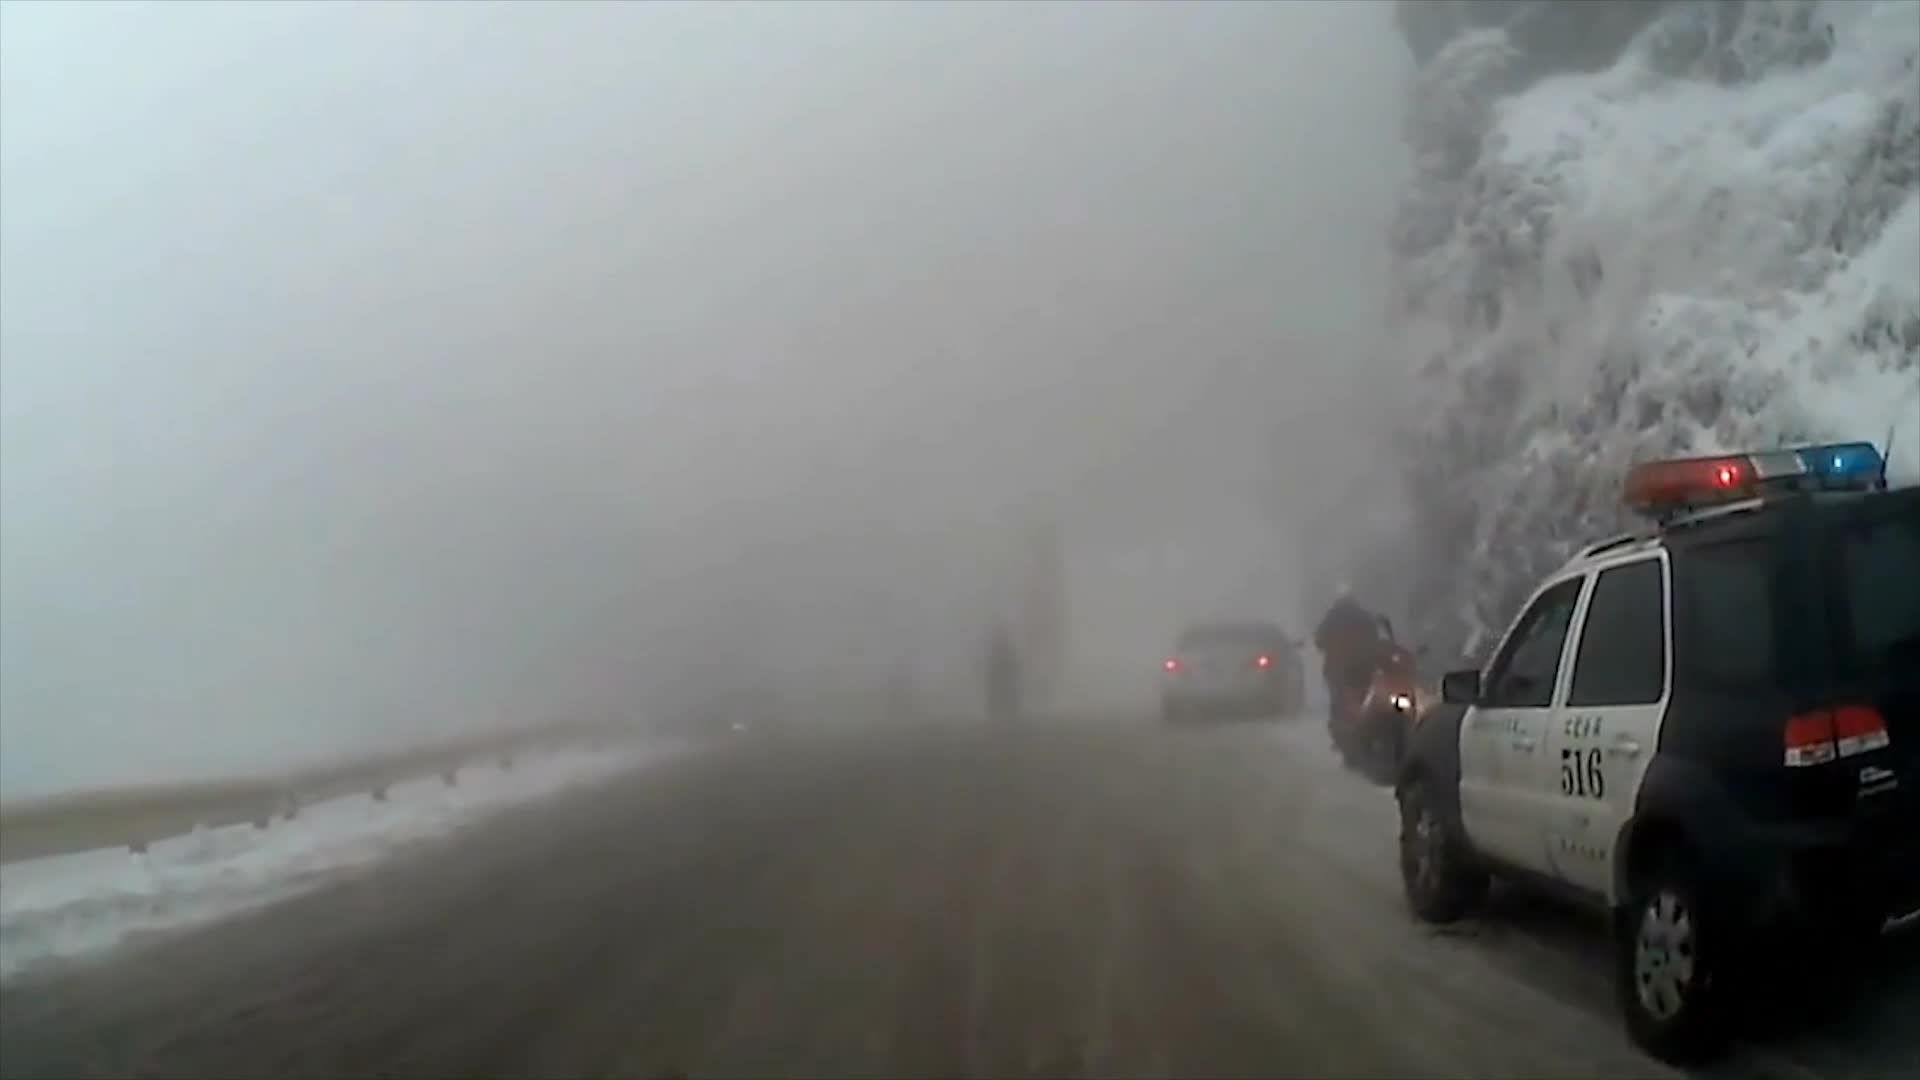pedestrian: (1319, 585, 1395, 753)
vehicle: (1392, 437, 1919, 1059), (1158, 617, 1307, 727)
